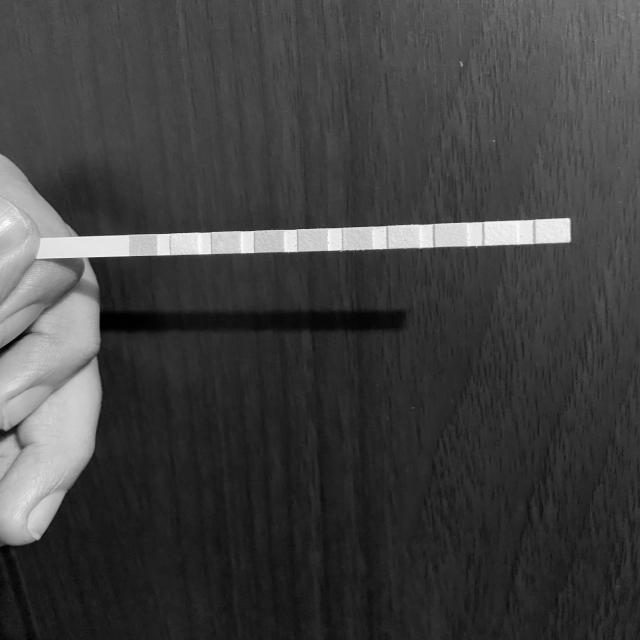Bilirubin: (170, 234, 198, 254)
Blood: (298, 229, 328, 251)
Glucose: (130, 235, 157, 256)
Ketone: (212, 232, 241, 254)
Leukocytes: (536, 220, 570, 242)
Nitrite: (484, 222, 517, 245)
Protein: (388, 225, 419, 248)
SpGravity: (255, 231, 284, 252)
Urobilinogen: (435, 224, 467, 246)
background: (0, 0, 640, 640)
pH: (343, 228, 372, 249)
strip: (44, 218, 573, 259)
